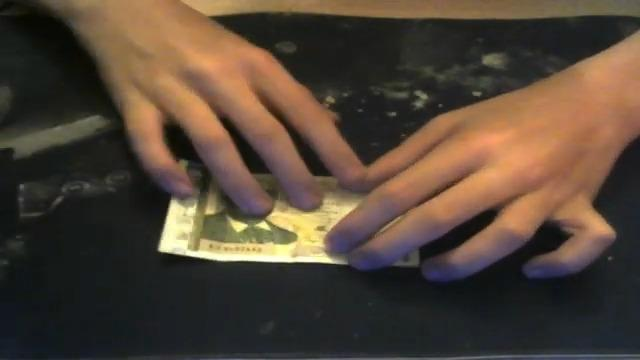10leva: (21, 0, 374, 264)
